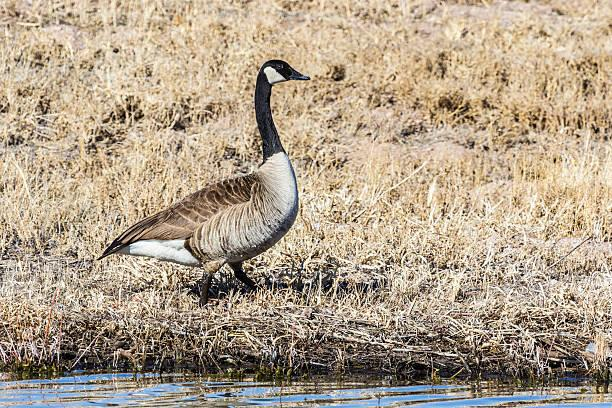Canadian-Goose: (96, 61, 318, 290)
